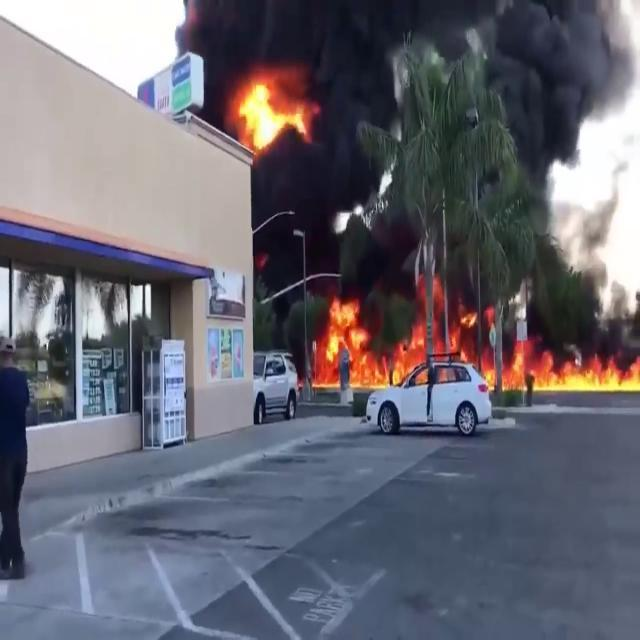Fire: (481, 335, 640, 393), (396, 264, 452, 380), (232, 68, 300, 152), (315, 291, 370, 389)
Smoke: (510, 2, 640, 355), (233, 0, 394, 236)
